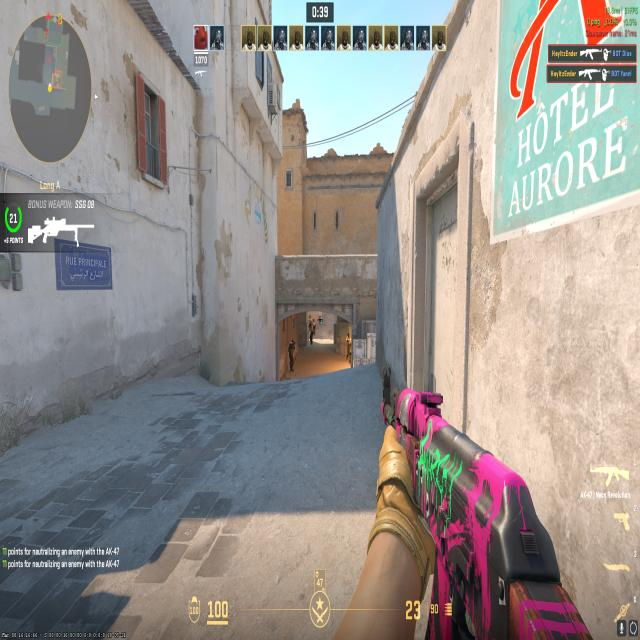ct: (286, 333, 296, 370)
t: (342, 333, 353, 360), (308, 324, 315, 342), (308, 312, 312, 330), (312, 318, 316, 331)
